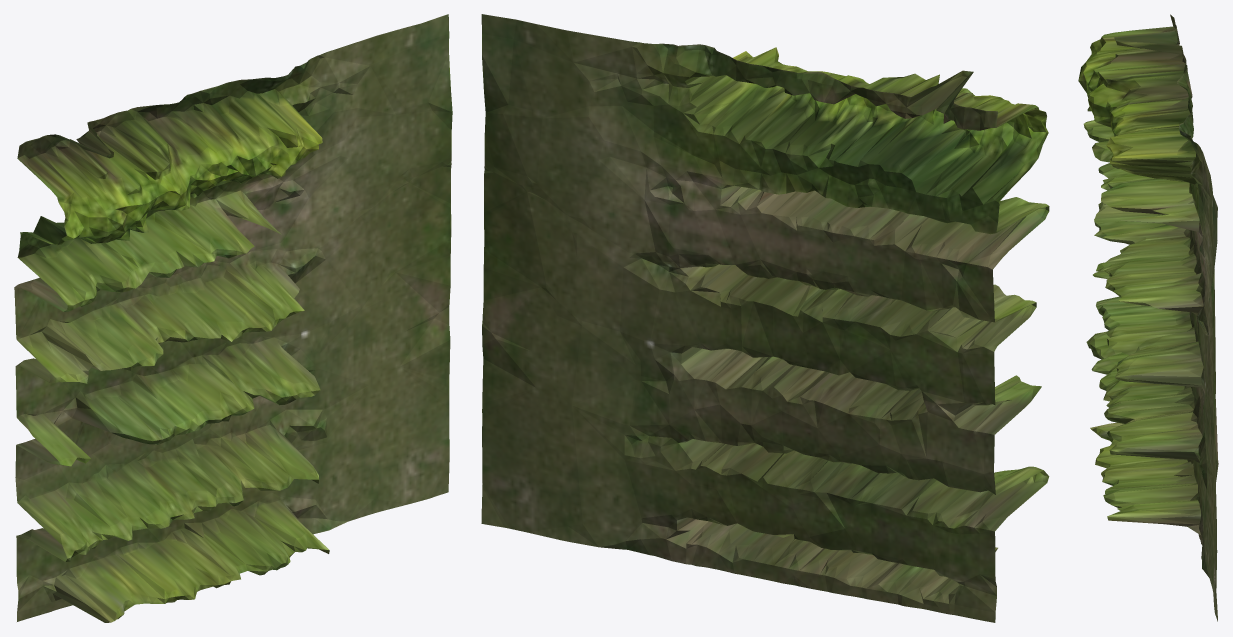
The model's file is map_40_70.obj.
3 renders of one model, left to right at view 1: azimuth 30°, elevation 25°; view 2: azimuth 150°, elevation 25°; view 3: azimuth 270°, elevation 25°, orthographic. The views are drawn at different scales.
Visible parts, largest first — view 1: grp1; view 2: grp1; view 3: grp1.
Boxes of the visible parts, x1=… form: grp1: x1=14, y1=14, x2=452, y2=622; grp1: x1=481, y1=14, x2=1049, y2=622; grp1: x1=1078, y1=14, x2=1218, y2=621.
Size of the model in its own units: 10 by 10 by 3.06.
1 material, 1 textured.
